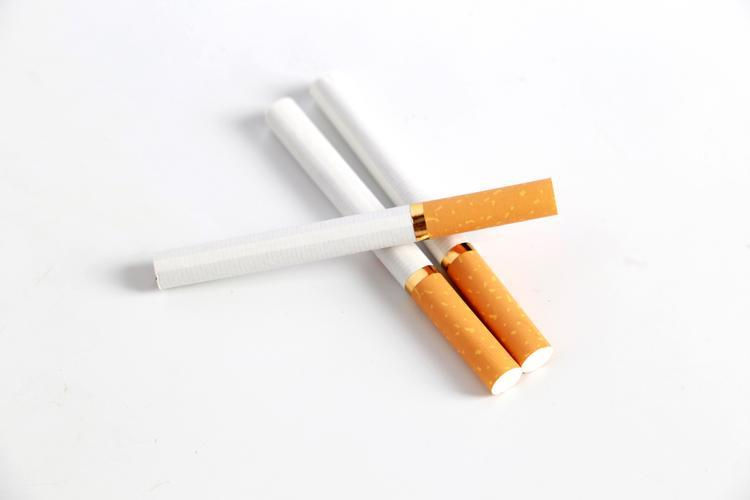smoke: (265, 96, 524, 396), (309, 76, 555, 374), (150, 176, 560, 292)
